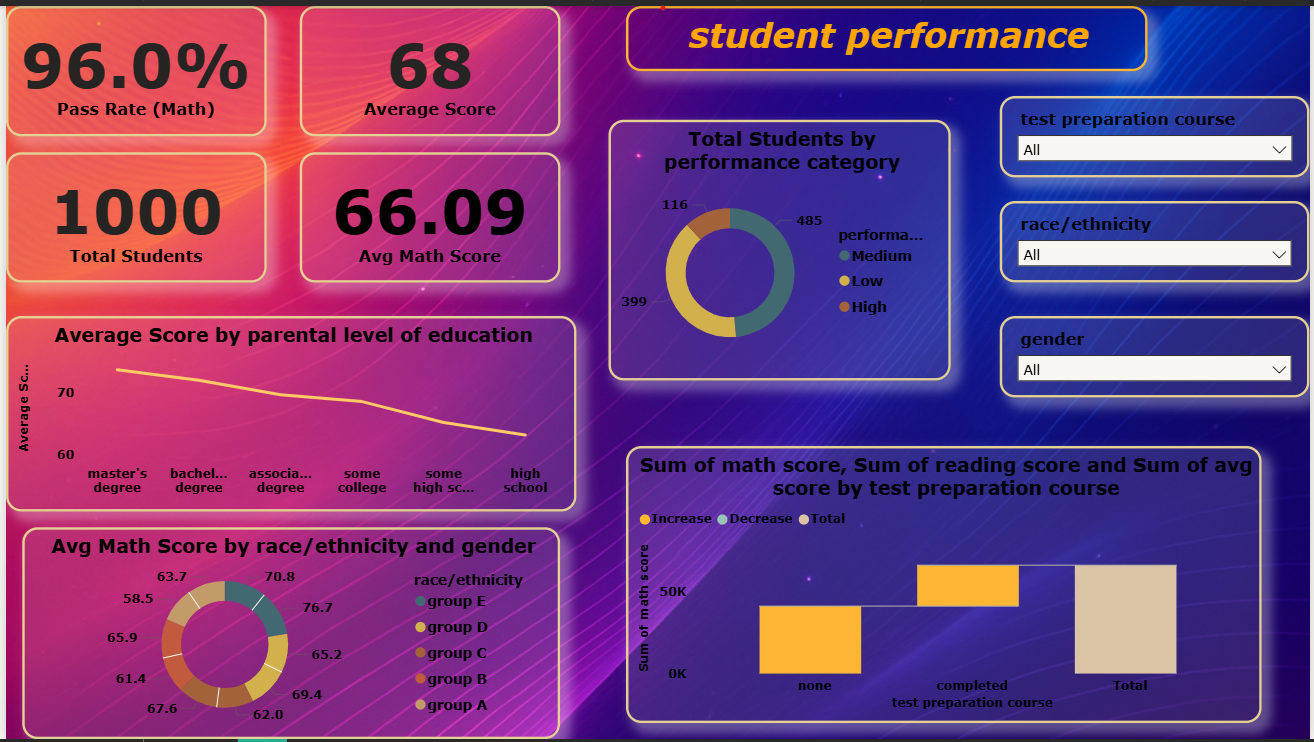

The dashboard page shown, as its layout file describes it:
{"tool":"powerbi","page":{"name":"Page 1","canvas":[1280,720],"ordinal":0},"visuals":[{"type":"card","fields":{"Values":["StudentsPerformance.Average Score"]},"box":[704.3,100.6,255.2,116.6],"z":0},{"type":"card","fields":{"Values":["StudentsPerformance.Avg Math Score"]},"box":[1005.4,100.4,261.4,117.8],"z":1000},{"type":"card","fields":{"Values":["StudentsPerformance.Total Students"]},"box":[379.6,100.4,252.8,117.8],"z":2000},{"type":"card","fields":{"Values":["StudentsPerformance.Pass Rate (Math)"]},"box":[28.7,100.4,263.8,117.8],"z":3000},{"type":"lineChart","fields":{"Category":["StudentsPerformance.parental level of education"],"Y":["StudentsPerformance.Average Score"]},"box":[12.3,490.8,559.5,229.4],"z":4000},{"type":"donutChart","fields":{"Category":["StudentsPerformance.race/ethnicity"],"Series":["StudentsPerformance.gender"],"Y":["StudentsPerformance.Avg Math Score"]},"box":[12.3,245.4,531.3,228.2],"z":5000},{"type":"donutChart","fields":{"Category":["StudentsPerformance.performance category"],"Y":["StudentsPerformance.Total Students"]},"box":[631.9,492,613.5,228.2],"z":6000},{"type":"waterfallChart","fields":{"Y":["Sum(StudentsPerformance.math score)"],"Category":["StudentsPerformance.test preparation course"]},"box":[591.4,245.4,650.3,228.2],"z":7000},{"type":"slicer","fields":{"Values":["StudentsPerformance.gender"]},"box":[1068.7,2.5,211,69.9],"z":8000},{"type":"slicer","fields":{"Values":["StudentsPerformance.race/ethnicity"]},"box":[0,2.5,316.6,76.1],"z":8001},{"type":"slicer","fields":{"Values":["StudentsPerformance.test preparation course"]},"box":[763.2,0,287.1,72.4],"z":8002},{"type":"textbox","title":"student performance","box":[327.6,0,420.9,63.8],"z":8003}]}

Visuals, with their boxes in screenshot pixels (x1, y1, x2, y2), scaled from the page's 1280x720 canvas onto the 1314x742 screenshot:
card - StudentsPerformance.Average Score: [723, 104, 985, 224]
card - StudentsPerformance.Avg Math Score: [1032, 103, 1300, 225]
card - StudentsPerformance.Total Students: [390, 103, 649, 225]
card - StudentsPerformance.Pass Rate (Math): [29, 103, 300, 225]
lineChart - StudentsPerformance.parental level of education x StudentsPerformance.Average Score: [13, 506, 587, 741]
donutChart - StudentsPerformance.race/ethnicity x StudentsPerformance.gender: [13, 253, 558, 488]
donutChart - StudentsPerformance.performance category x StudentsPerformance.Total Students: [649, 507, 1278, 741]
waterfallChart - Sum(StudentsPerformance.math score) x StudentsPerformance.test preparation course: [607, 253, 1275, 488]
slicer - StudentsPerformance.gender: [1097, 3, 1313, 75]
slicer - StudentsPerformance.race/ethnicity: [0, 3, 325, 81]
slicer - StudentsPerformance.test preparation course: [783, 0, 1078, 75]
"student performance" textbox: [336, 0, 768, 66]
